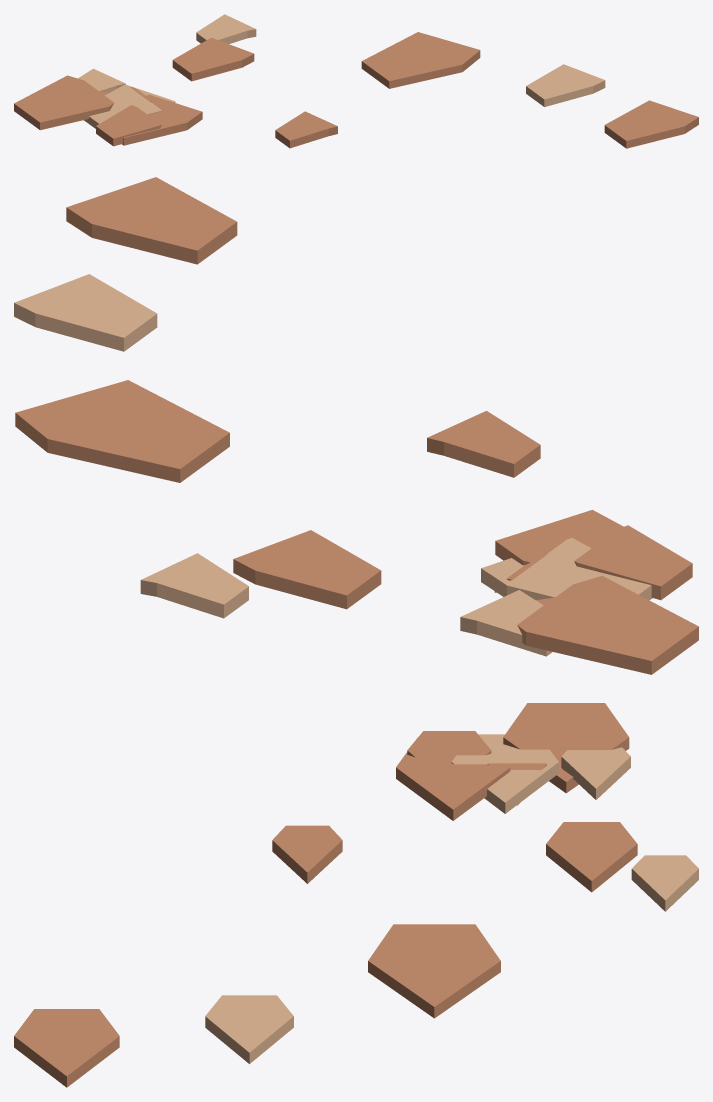
3 renders of one model, top to bottom at view 1: azimuth 30°, elevation 25°; view 2: azimuth 150°, elevation 25°; view 3: azimuth 270°, elevation 25°, orthographic. The views are drawn at different scales.
Parts seen in each view (by area): view 1: BA-0076 batched; view 2: BA-0076 batched; view 3: BA-0076 batched.
Boxes of the visible parts, <box> form: BA-0076 batched: <box>14,14,698,148</box>; BA-0076 batched: <box>14,177,698,674</box>; BA-0076 batched: <box>14,703,698,1087</box>.
Bounding box in the file's own units: 1.03 × 0.0376 × 0.8146.
